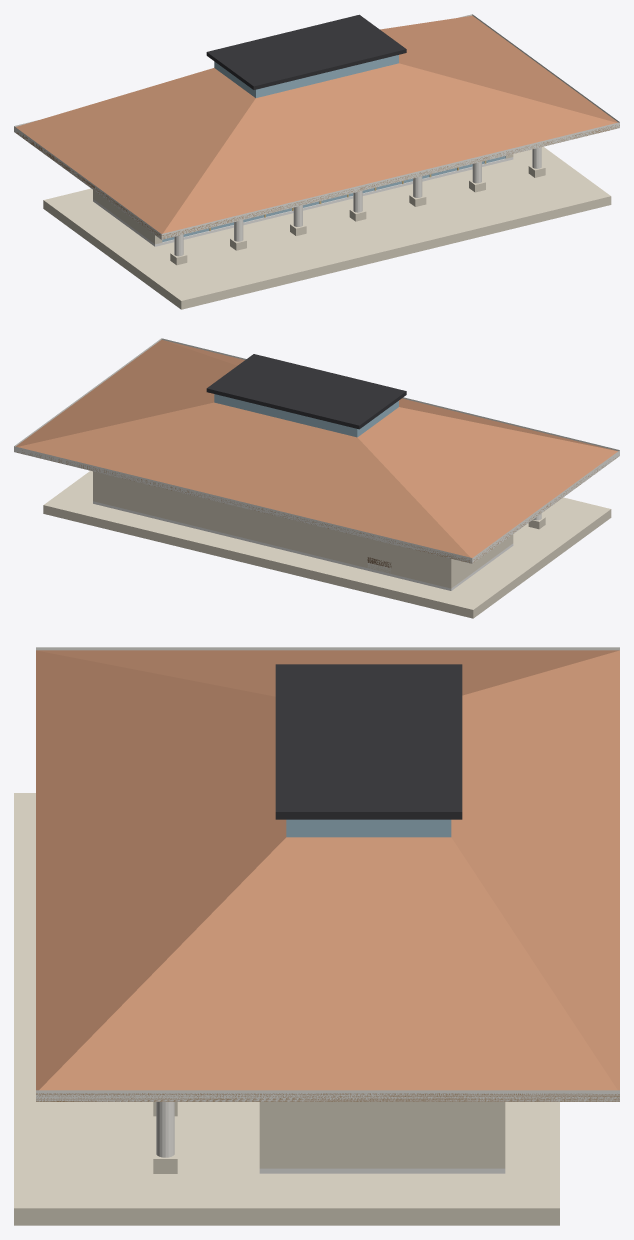
The model's file is E3-5_restaurante.fbx.
3 renders of one model, top to bottom at view 1: azimuth 30°, elevation 25°; view 2: azimuth 150°, elevation 25°; view 3: azimuth 270°, elevation 25°, orthographic. The views are drawn at different scales.
Parts seen in each view (by area): view 1: E3-5_restaurante; view 2: E3-5_restaurante; view 3: E3-5_restaurante.
Boxes of the visible parts, box(x1,y1,x2,y2) form: E3-5_restaurante: box(14, 14, 619, 309); E3-5_restaurante: box(14, 338, 619, 618); E3-5_restaurante: box(14, 647, 619, 1225).
Size of the model in its own units: 38.4 by 11.3 by 22.2.
